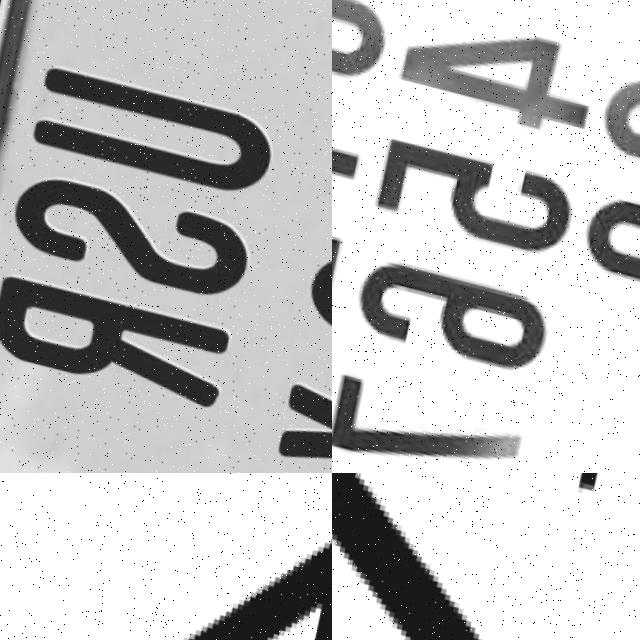4: (389, 0, 603, 136)
5: (369, 125, 583, 254)
6: (346, 242, 560, 374)
7: (332, 365, 537, 473)
8: (588, 54, 640, 186)
9: (581, 175, 640, 301)
N: (332, 473, 640, 640)
R: (0, 267, 240, 404)
S: (5, 166, 260, 301)
U: (28, 61, 279, 194)
